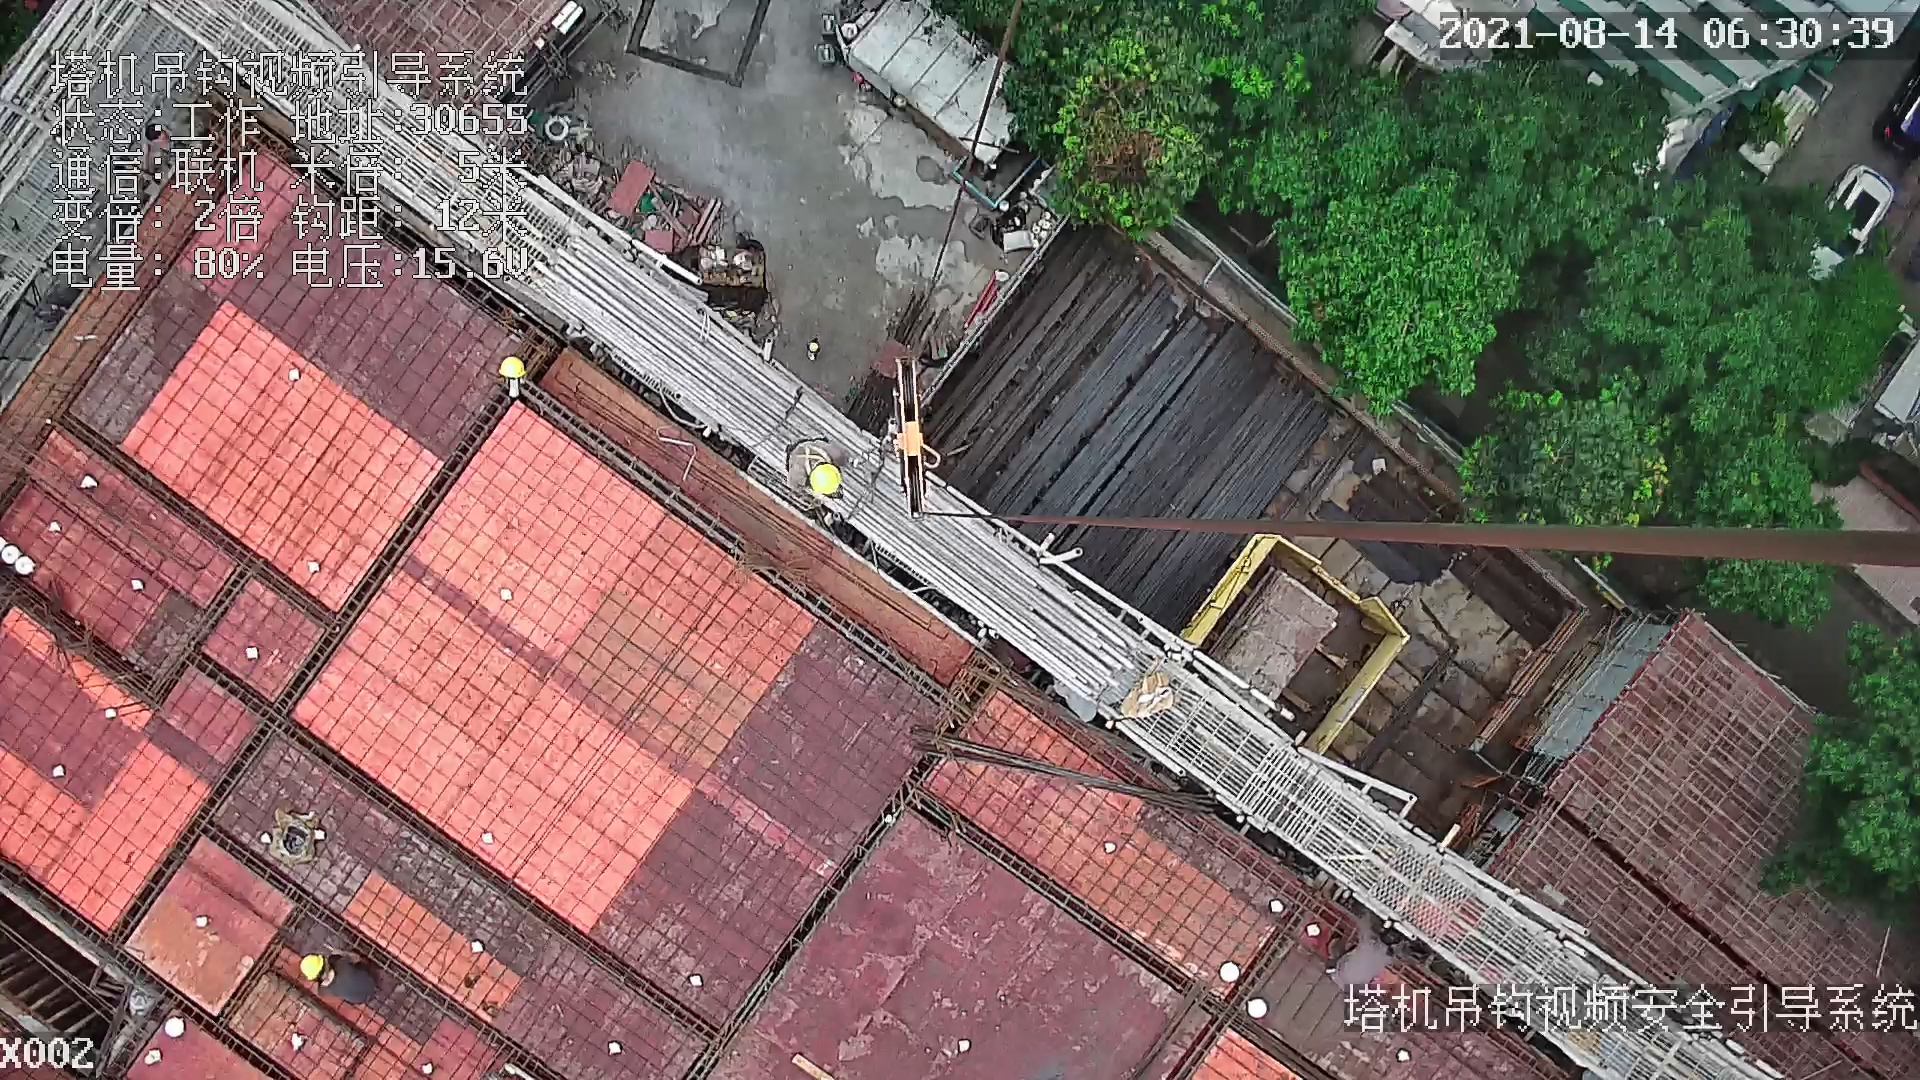helmet: (809, 461, 842, 498), (497, 355, 529, 378), (297, 954, 325, 980)
hook: (883, 353, 938, 524)
person: (295, 939, 386, 1009), (779, 427, 855, 509)
rebar: (945, 253, 1313, 622)
